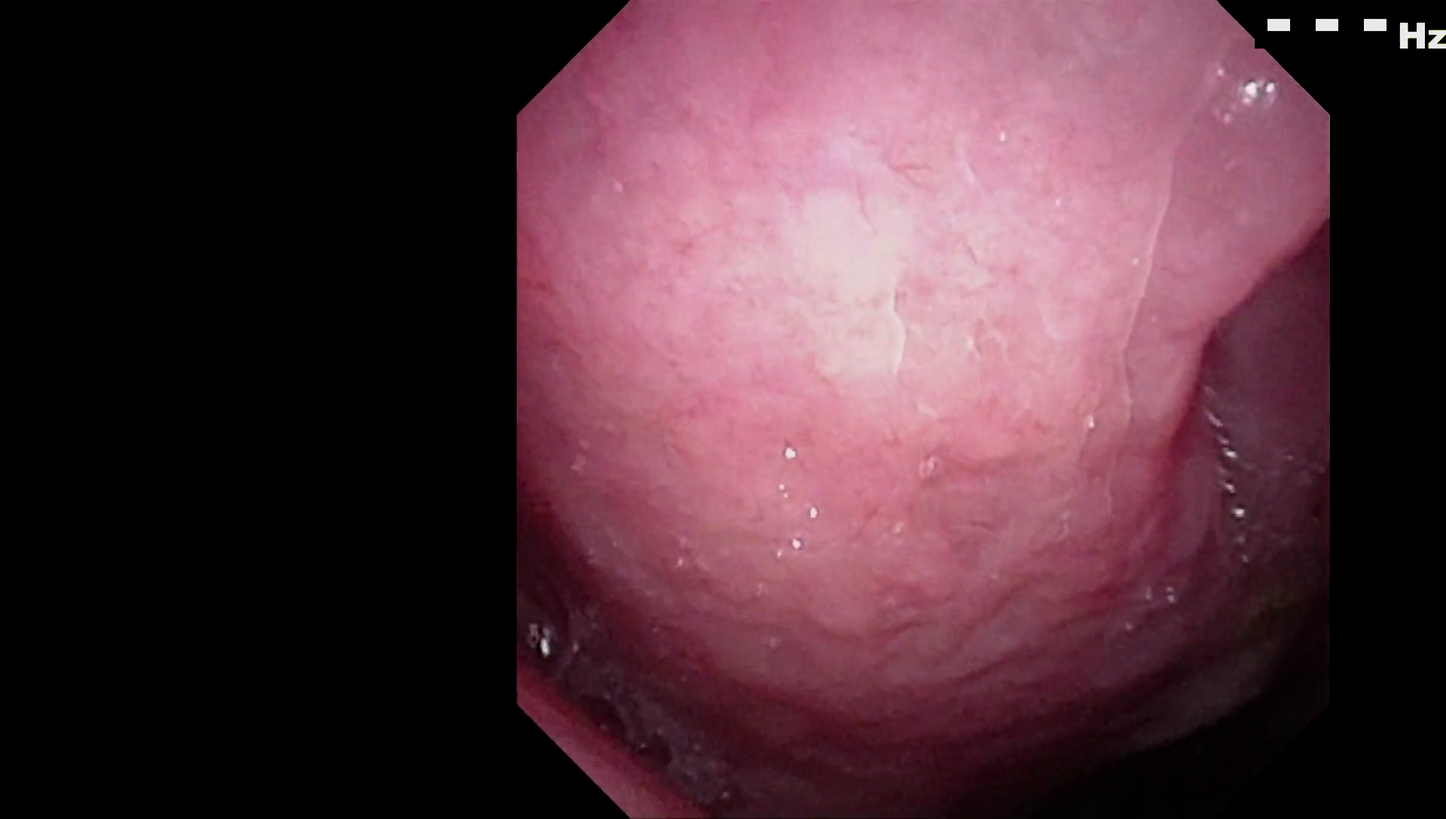close_wall: (559, 78, 1254, 543)
next: (864, 632, 1288, 819)
